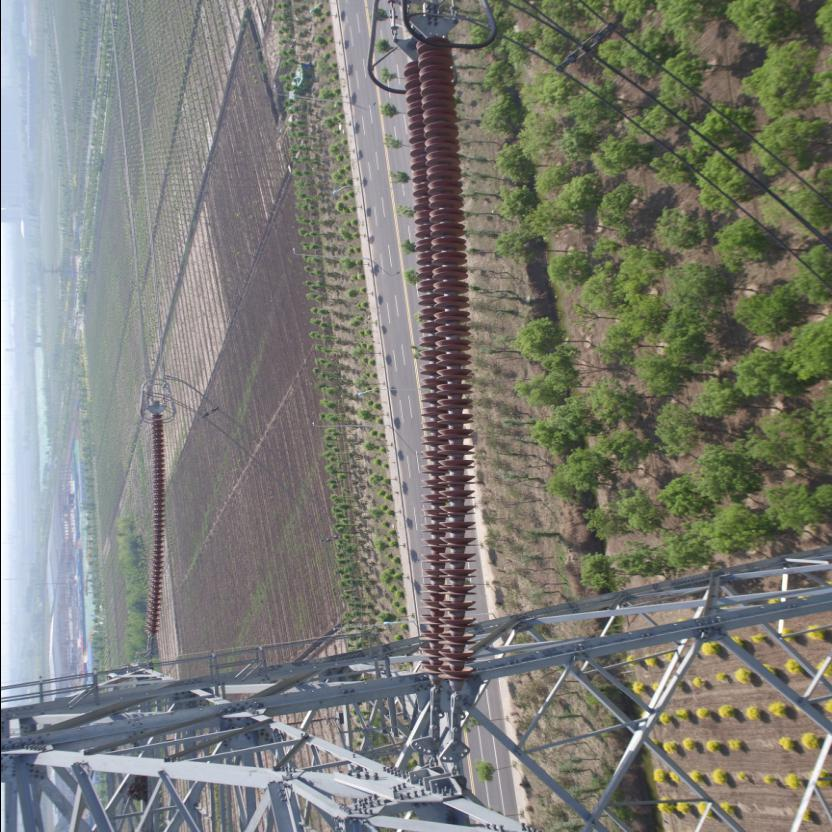insulator: (384, 30, 482, 716), (142, 412, 166, 650)
